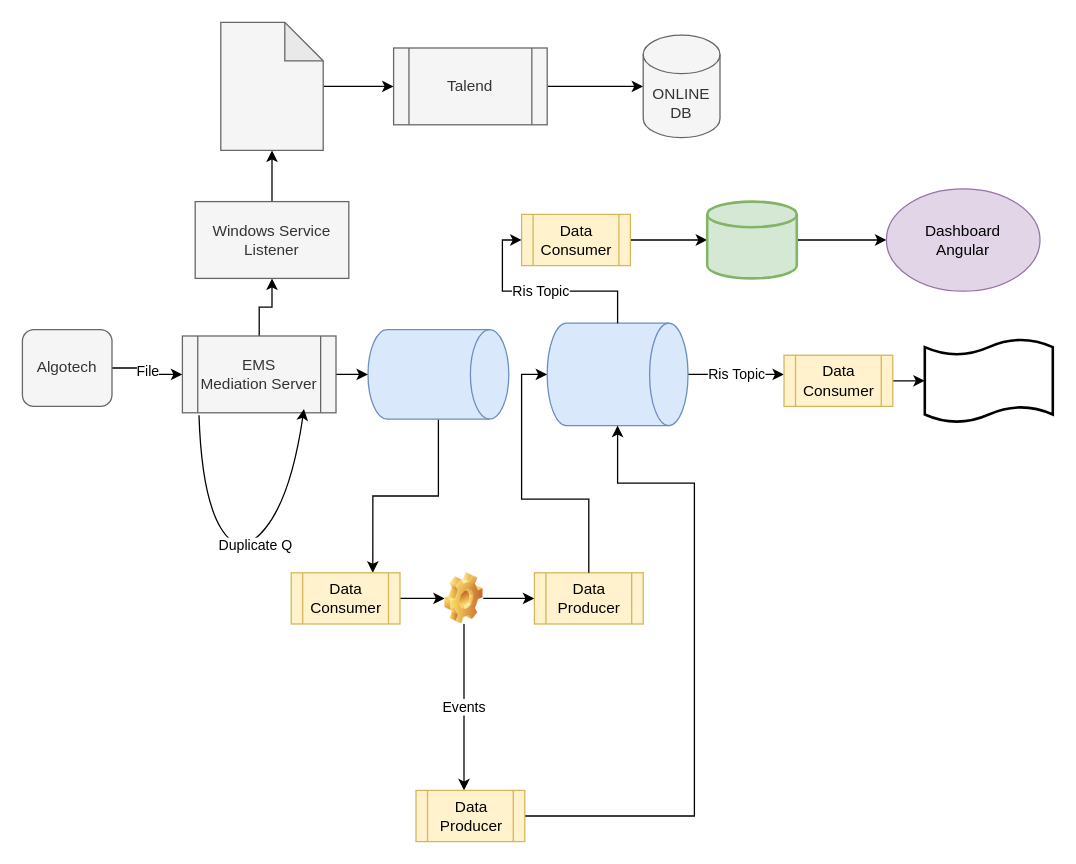
The diagram is 1076 pixels wide and 864 high, and some of its shapes have lost their labels. The centre of each missing label's shape, as x and y in pixels:
"Data Lake" goes at (x=988, y=380).
"File landing zone" goes at (x=271, y=85).
"KAFKA LAB Topic + BL" goes at (x=617, y=374).
"KAFKA LAB Topic RAW" goes at (x=438, y=373).
"MongoDB" goes at (x=751, y=239).
